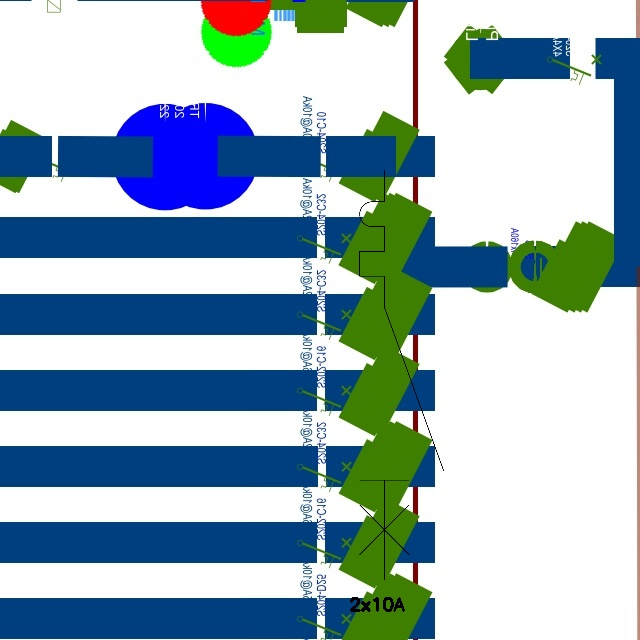interruptor_termomagnetico: (349, 160, 454, 589)
